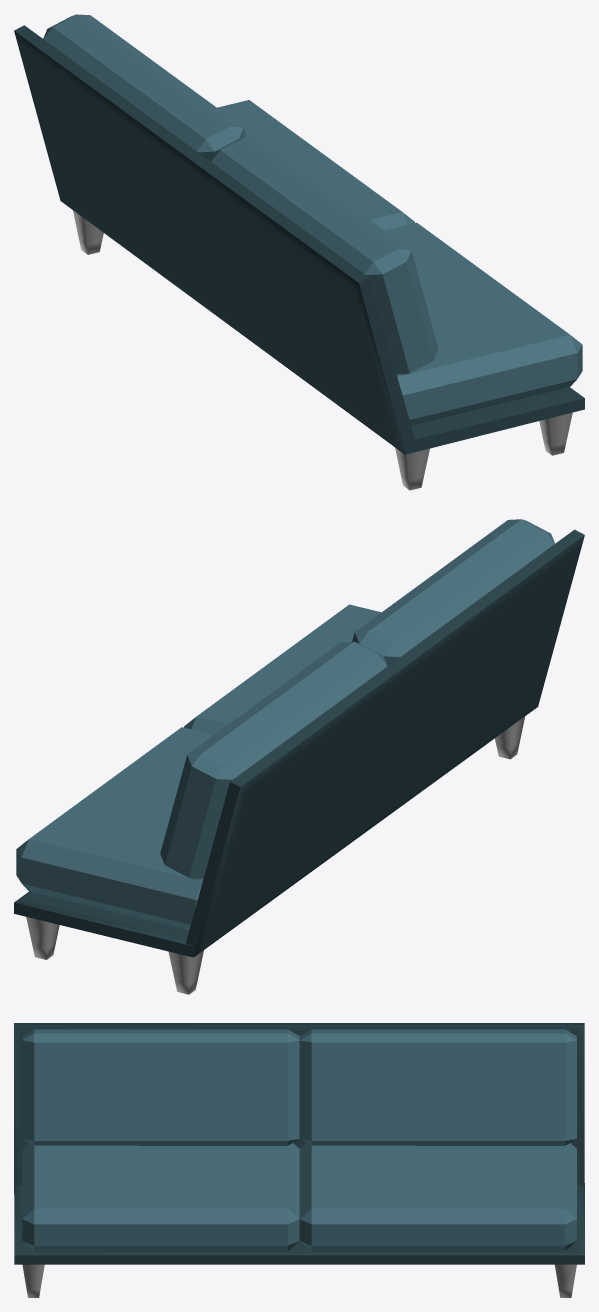
The model's file is CouchV1-coloured.fbx.
The picture shows the model from 3 angles, top to bottom: view 1: azimuth 30°, elevation 25°; view 2: azimuth 150°, elevation 25°; view 3: azimuth 270°, elevation 25°; orthographic projection. The views are drawn at different scales.
Parts seen in each view (by area): view 1: pCube10, pCube12, pCube8, pCube9, pCube11, pCube7, pCone6, pCone5, pCone8; view 2: pCube10, pCube11, pCube9, pCube8, pCube12, pCube7, pCone8, pCone7, pCone6; view 3: pCube9, pCube8, pCube11, pCube12, pCube7, pCube10, pCone5, pCone7.
Part boxes in pixels (left/top/right/bottom): pCube10: left=14, top=25, right=416, bottom=453; pCube12: left=385, top=222, right=582, bottom=425; pCube8: left=211, top=137, right=438, bottom=375; pCube9: left=43, top=14, right=246, bottom=161; pCube11: left=217, top=100, right=414, bottom=230; pCube7: left=91, top=223, right=584, bottom=454; pCone6: left=395, top=447, right=429, bottom=490; pCone5: left=539, top=412, right=572, bottom=455; pCone8: left=73, top=210, right=103, bottom=254; pCube10: left=186, top=529, right=584, bottom=956; pCube11: left=16, top=727, right=213, bottom=930; pCube9: left=160, top=642, right=387, bottom=879; pCube8: left=352, top=519, right=554, bottom=665; pCube12: left=184, top=604, right=381, bottom=734; pCube7: left=14, top=705, right=538, bottom=957; pCone8: left=168, top=950, right=203, bottom=994; pCone7: left=26, top=917, right=59, bottom=959; pCone6: left=495, top=717, right=524, bottom=759; pCube9: left=299, top=1029, right=576, bottom=1145; pCube8: left=22, top=1029, right=299, bottom=1145; pCube11: left=299, top=1143, right=576, bottom=1251; pCube12: left=22, top=1143, right=299, bottom=1251; pCube7: left=14, top=1183, right=584, bottom=1264; pCube10: left=14, top=1023, right=584, bottom=1193; pCone5: left=22, top=1264, right=44, bottom=1297; pCone7: left=555, top=1264, right=576, bottom=1297.
Bounding box in the file's own units: 1.43 × 1.38 × 3.6.
